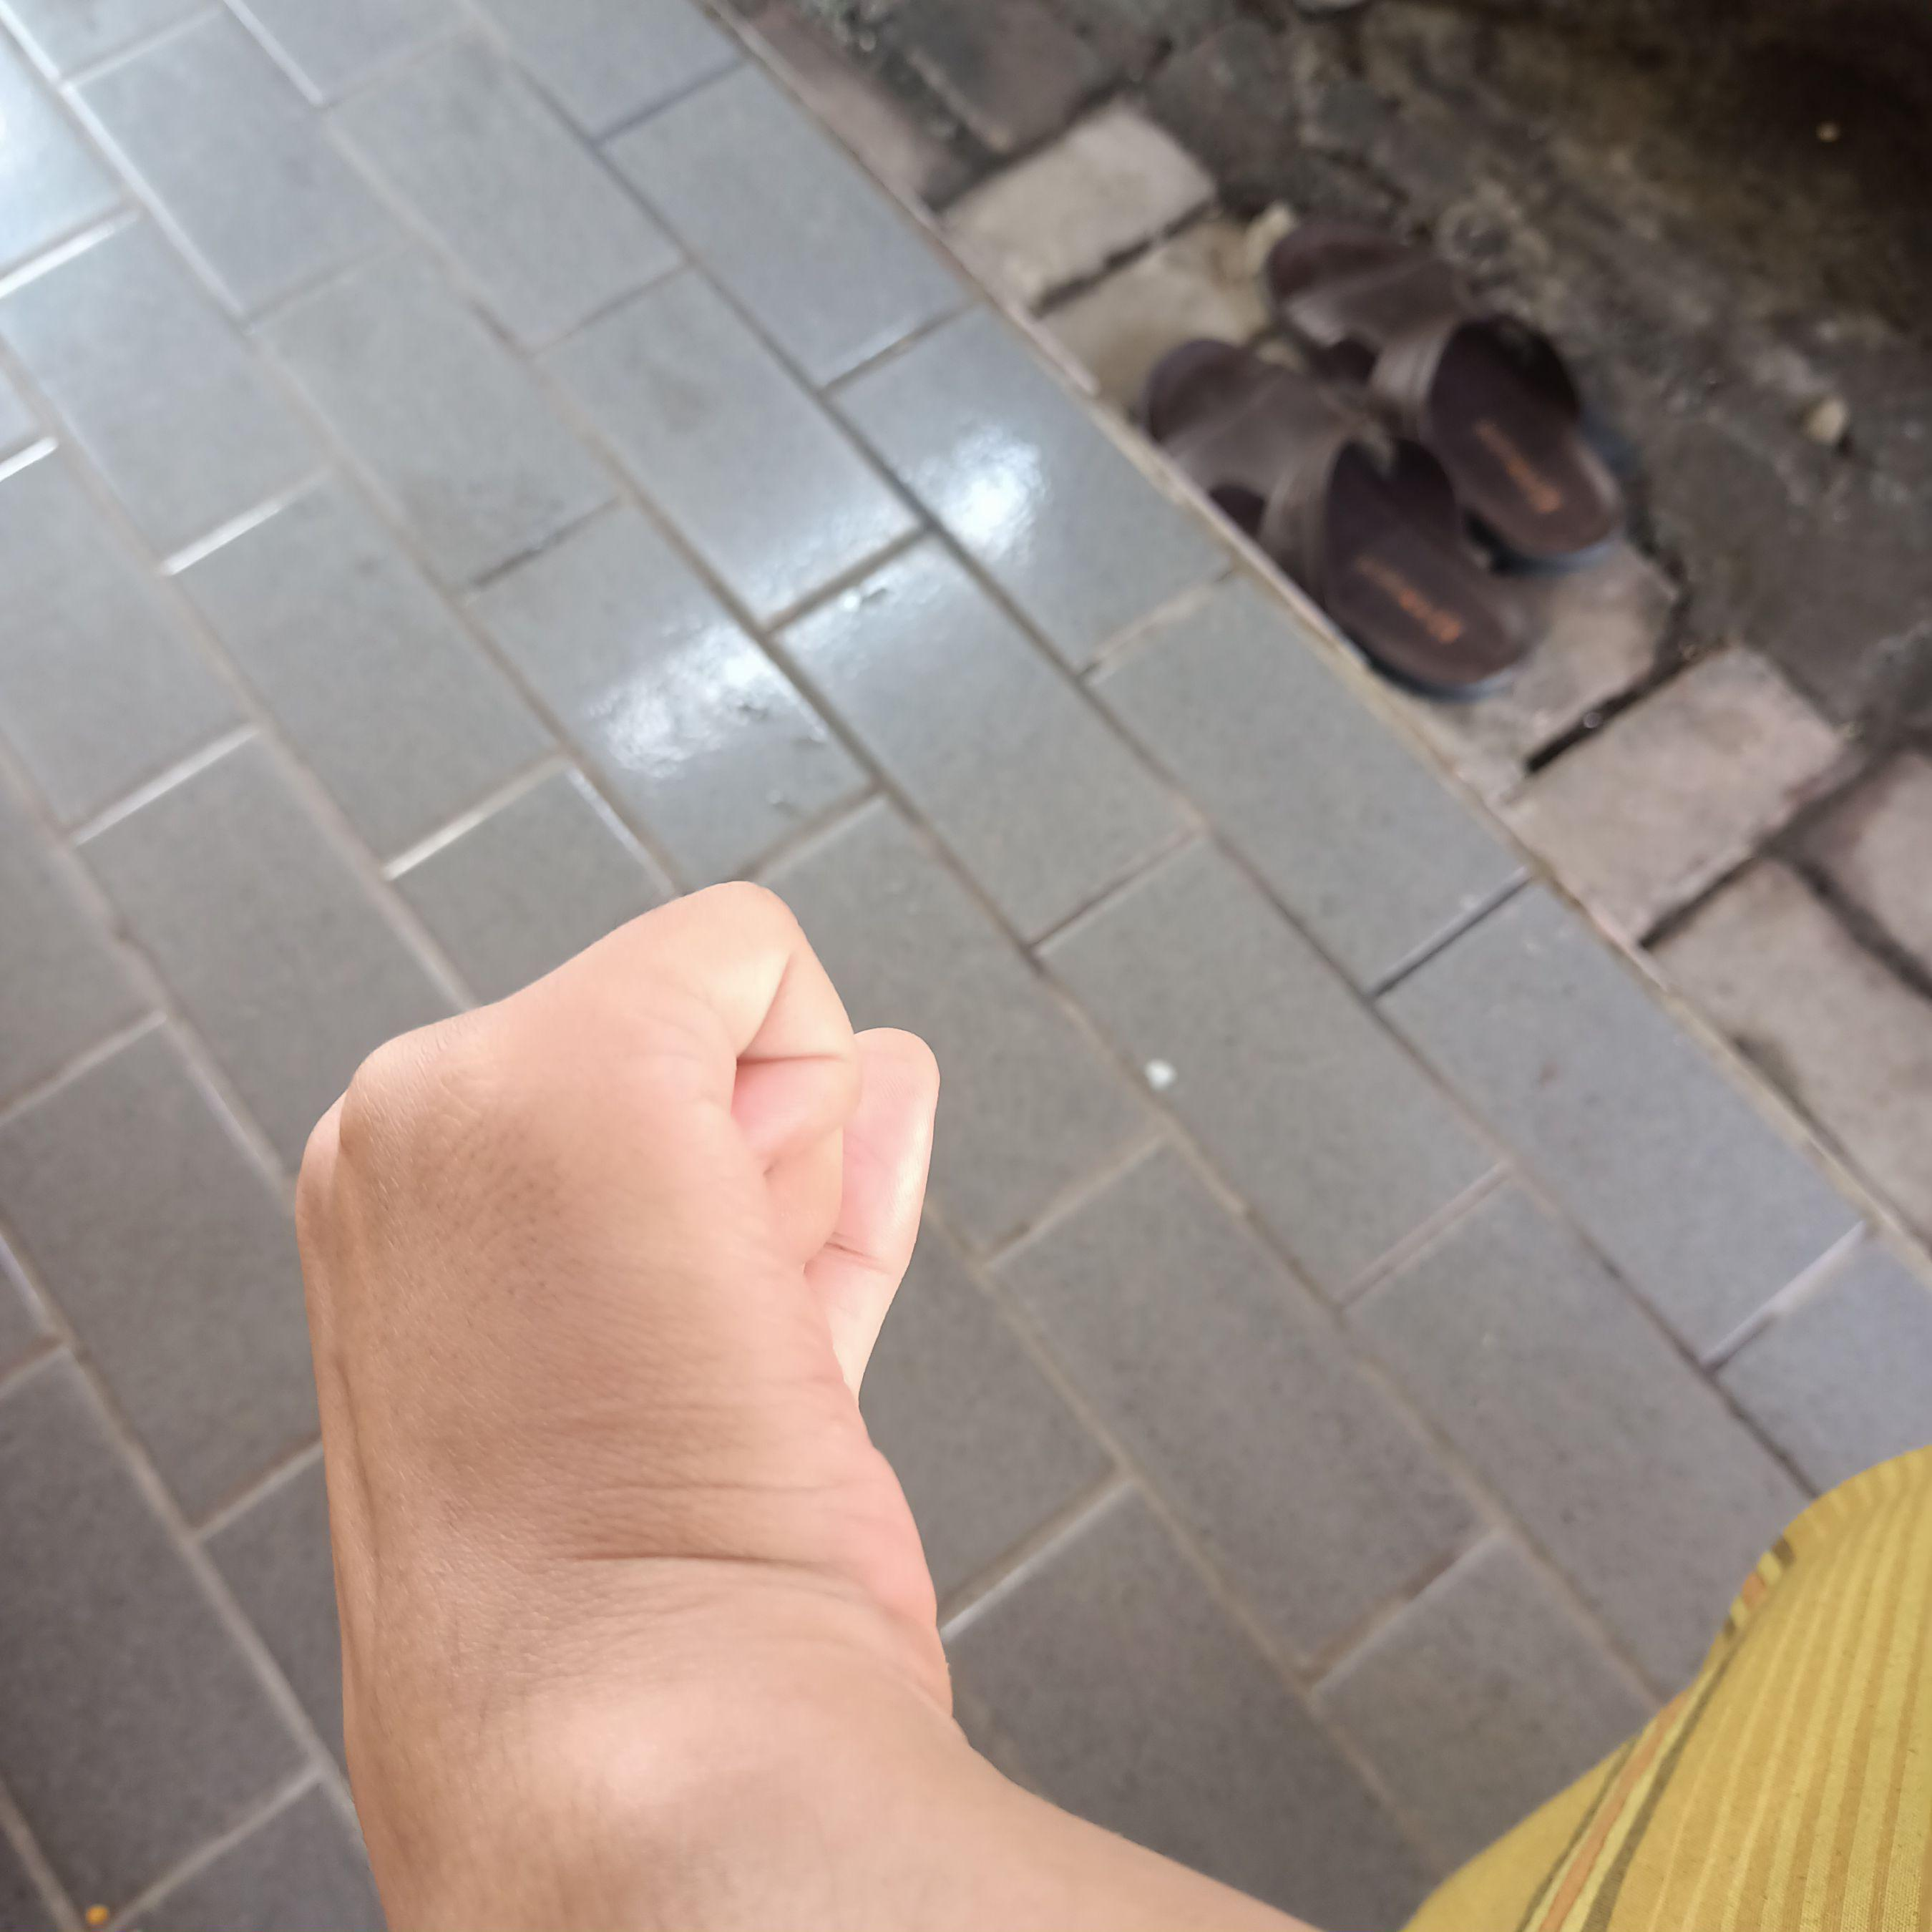rock: (272, 862, 984, 1923)
